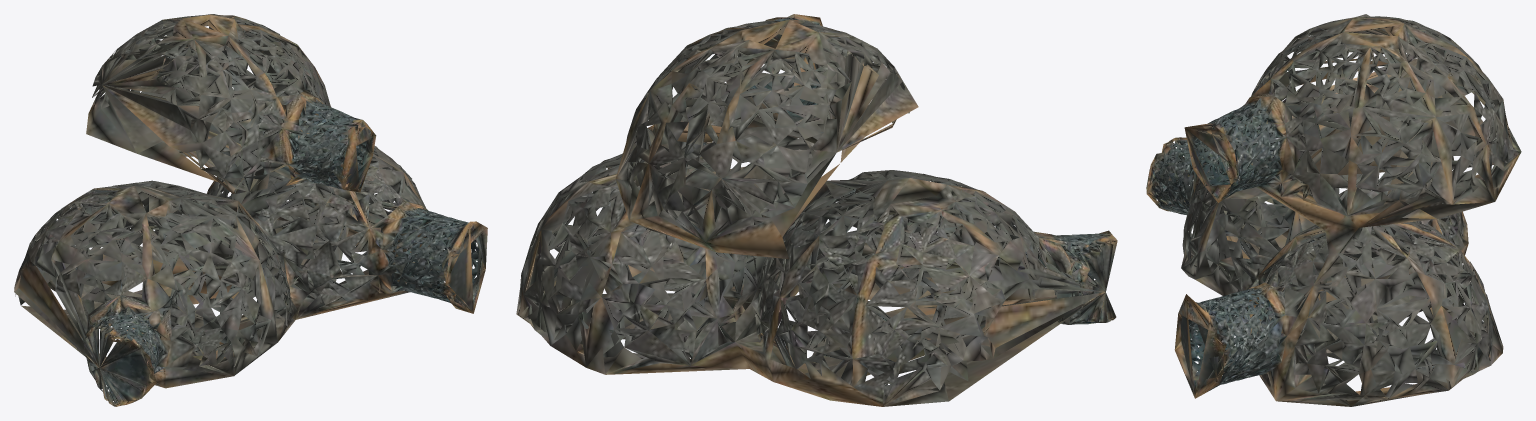
The model's file is coast_gargoor.glb.
3 renders of one model, left to right at view 1: azimuth 30°, elevation 25°; view 2: azimuth 150°, elevation 25°; view 3: azimuth 270°, elevation 25°, orthographic. The views are drawn at different scales.
Size of the model in its own units: 0.9137 by 0.5911 by 0.7104.
Materials: 1 (1 with a texture image).
